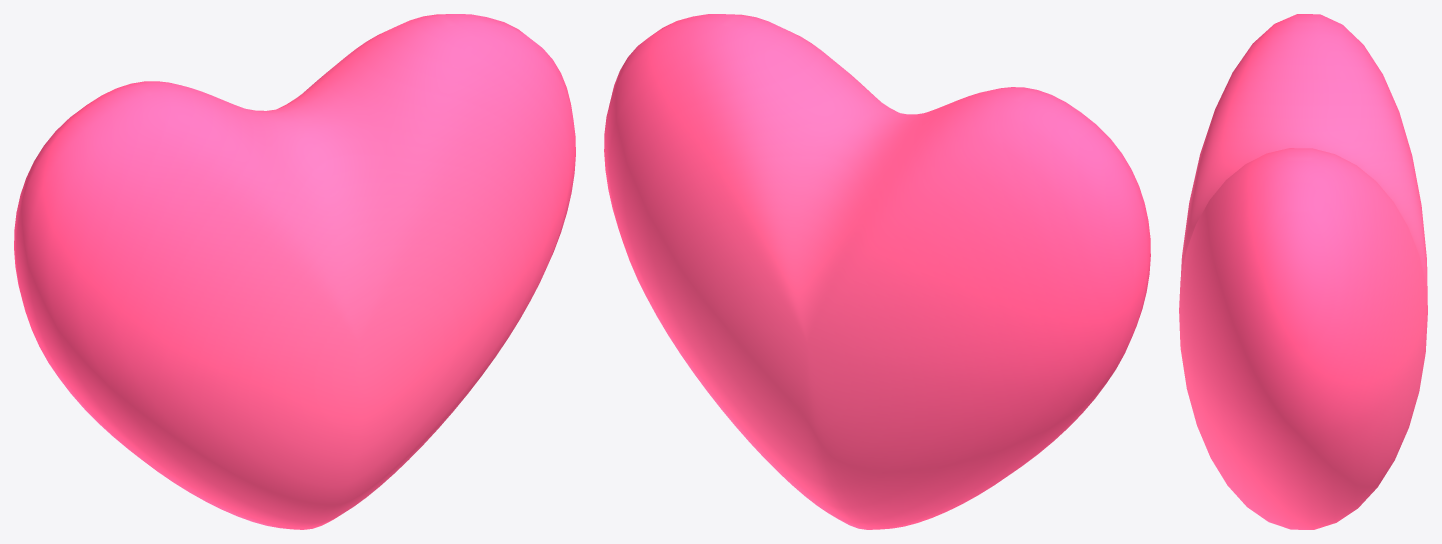
Rendered from heart-refined-v4.glb.
The picture shows the model from 3 angles, left to right: view 1: azimuth 30°, elevation 25°; view 2: azimuth 150°, elevation 25°; view 3: azimuth 270°, elevation 25°; orthographic projection. The views are drawn at different scales.
Visible parts, largest first — view 1: Heart_Glass; view 2: Heart_Glass; view 3: Heart_Glass.
Boxes of the visible parts, <box> form: Heart_Glass: <box>14,14,575,529</box>; Heart_Glass: <box>604,14,1150,529</box>; Heart_Glass: <box>1179,14,1427,529</box>.
Size of the model in its own units: 0.0801 by 0.0665 by 0.0347.
Materials: 1 (1 with a texture image).
